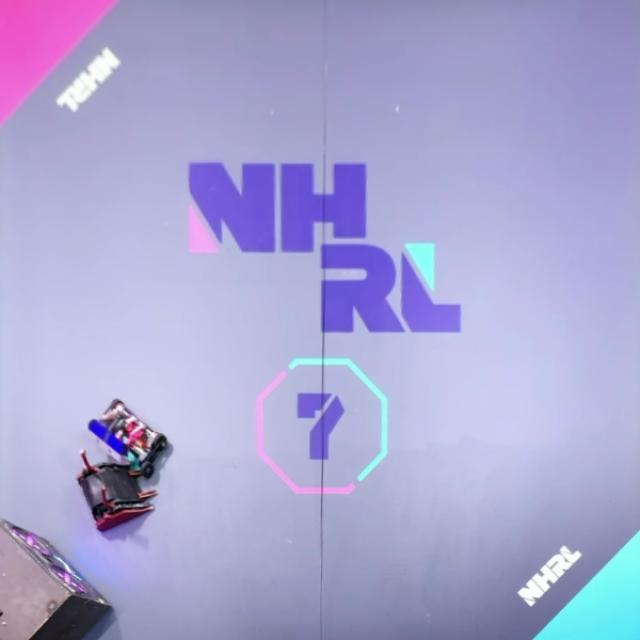housebot: (0, 515, 114, 640)
robot: (85, 396, 171, 479), (78, 449, 160, 532)
